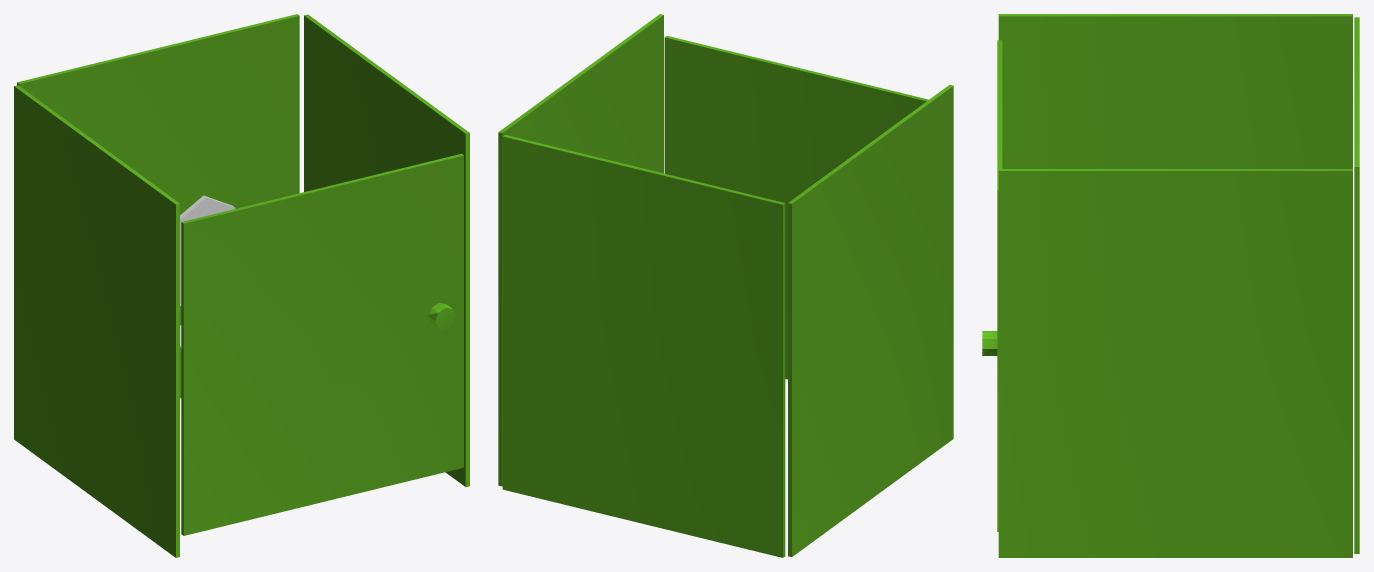
Rendered from Baño.fbx.
3 views of the same model, side by side, from view 1: azimuth 30°, elevation 25°; view 2: azimuth 150°, elevation 25°; view 3: azimuth 270°, elevation 25° (orthographic). The views are drawn at different scales.
Visible parts, largest first — view 1: Cylinder, Cylinder.001; view 2: Cylinder; view 3: Cylinder.
Part boxes in pixels (<box>): Cylinder: <box>14,14,469,557</box>; Cylinder.001: <box>180,195,235,348</box>; Cylinder: <box>498,14,953,557</box>; Cylinder: <box>982,14,1359,557</box>.
Size of the model in its own units: 915 by 1062 by 929.
